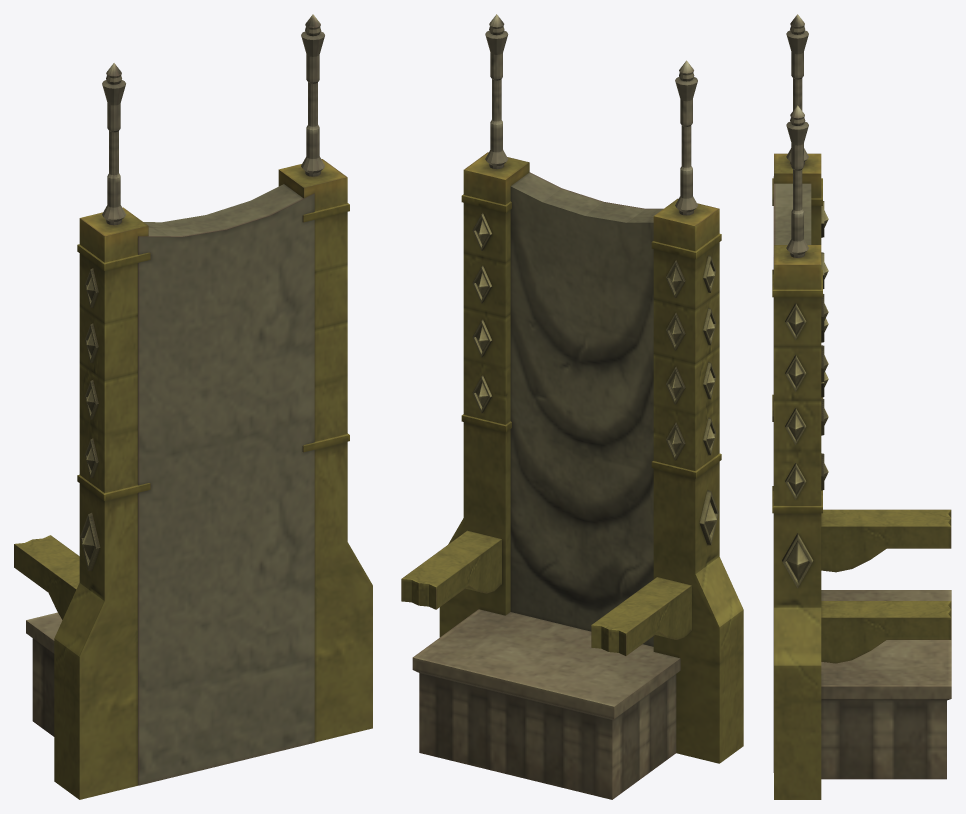
Rendered from Throne01_Maincity_001.FBX.
3 views of the same model, side by side, from view 1: azimuth 30°, elevation 25°; view 2: azimuth 150°, elevation 25°; view 3: azimuth 270°, elevation 25° (orthographic). The views are drawn at different scales.
Visible parts, largest first — view 1: Throne01_Maincity_001; view 2: Throne01_Maincity_001; view 3: Throne01_Maincity_001.
Part boxes in pixels (x1,y1,x2,y2): Throne01_Maincity_001: (14, 14, 372, 799); Throne01_Maincity_001: (401, 14, 743, 799); Throne01_Maincity_001: (772, 14, 951, 799).
Size of the model in its own units: 341 by 797 by 192.
1 material, 1 textured.
